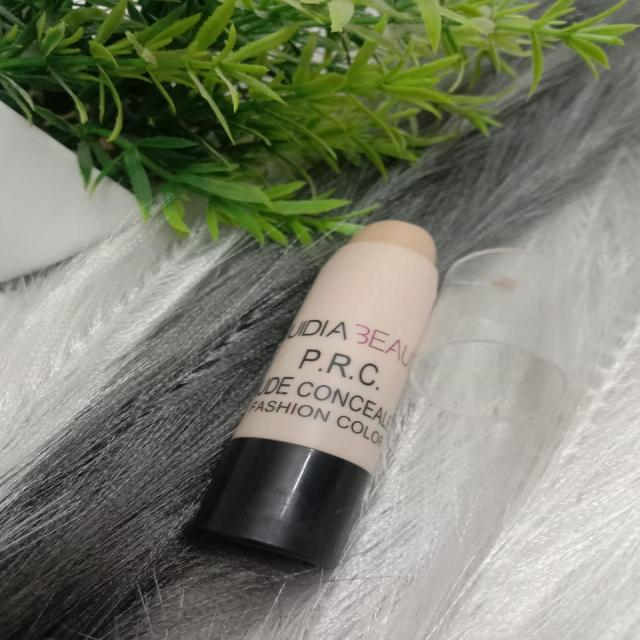concealer: (184, 215, 465, 580)
